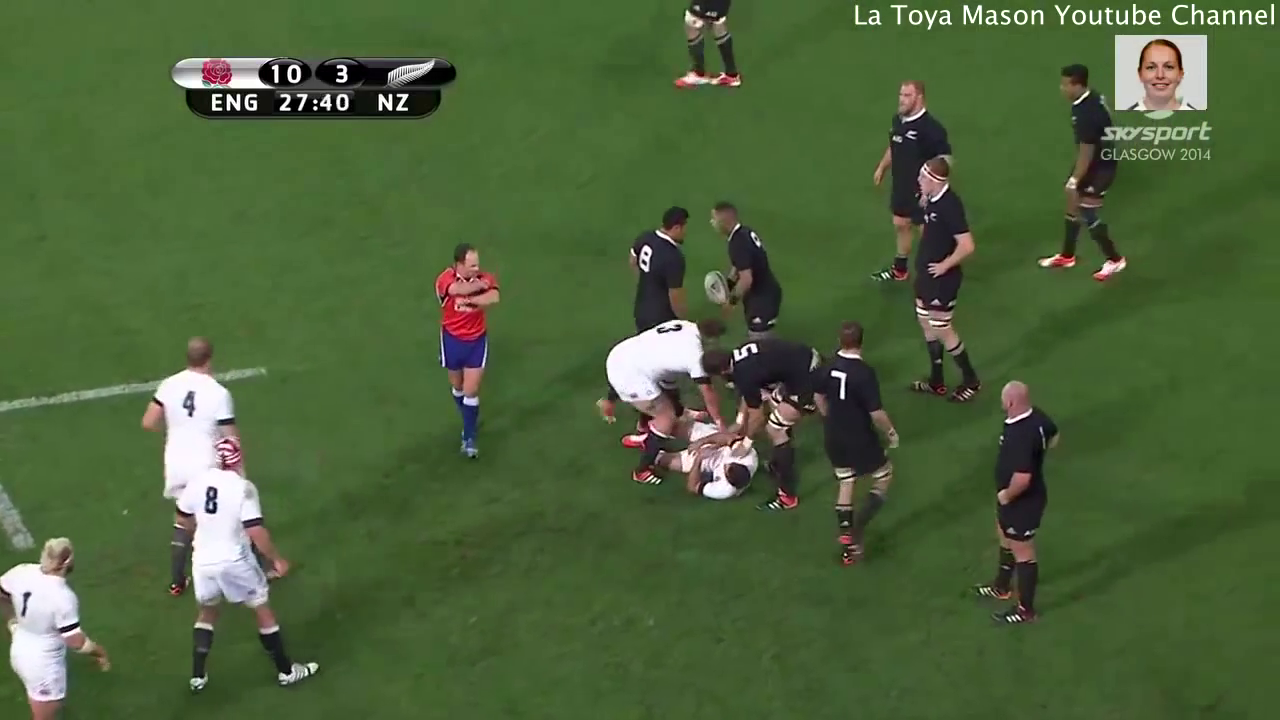ball: (698, 252, 737, 317)
player: (164, 432, 332, 700), (135, 325, 248, 608), (695, 330, 842, 525), (806, 330, 907, 583), (967, 370, 1063, 633), (900, 158, 997, 412), (599, 308, 729, 495), (1038, 60, 1141, 283), (1, 524, 118, 720), (426, 231, 514, 478), (861, 70, 953, 291), (616, 390, 767, 508), (700, 196, 794, 344), (611, 192, 691, 337), (668, 1, 751, 99)
